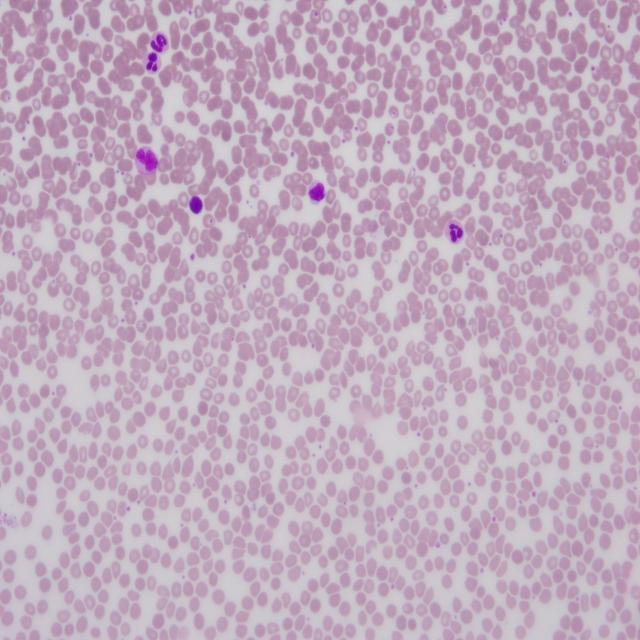cell: (445, 220, 464, 244), (150, 32, 169, 53), (145, 51, 161, 73)
